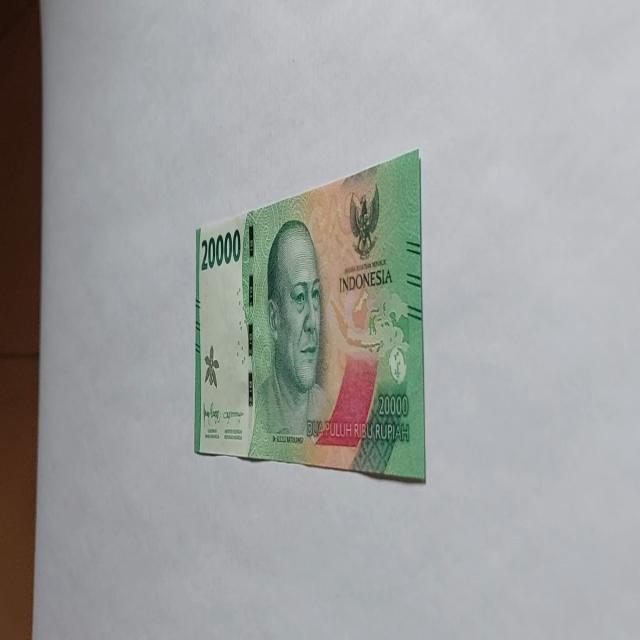dua puluh ribu rupiah: (192, 146, 426, 482), (248, 217, 336, 460)
